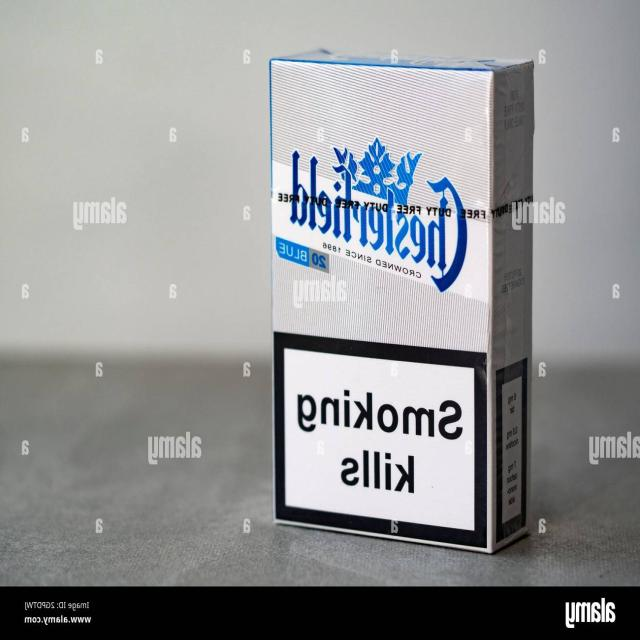chesterfield: (267, 48, 544, 557)
